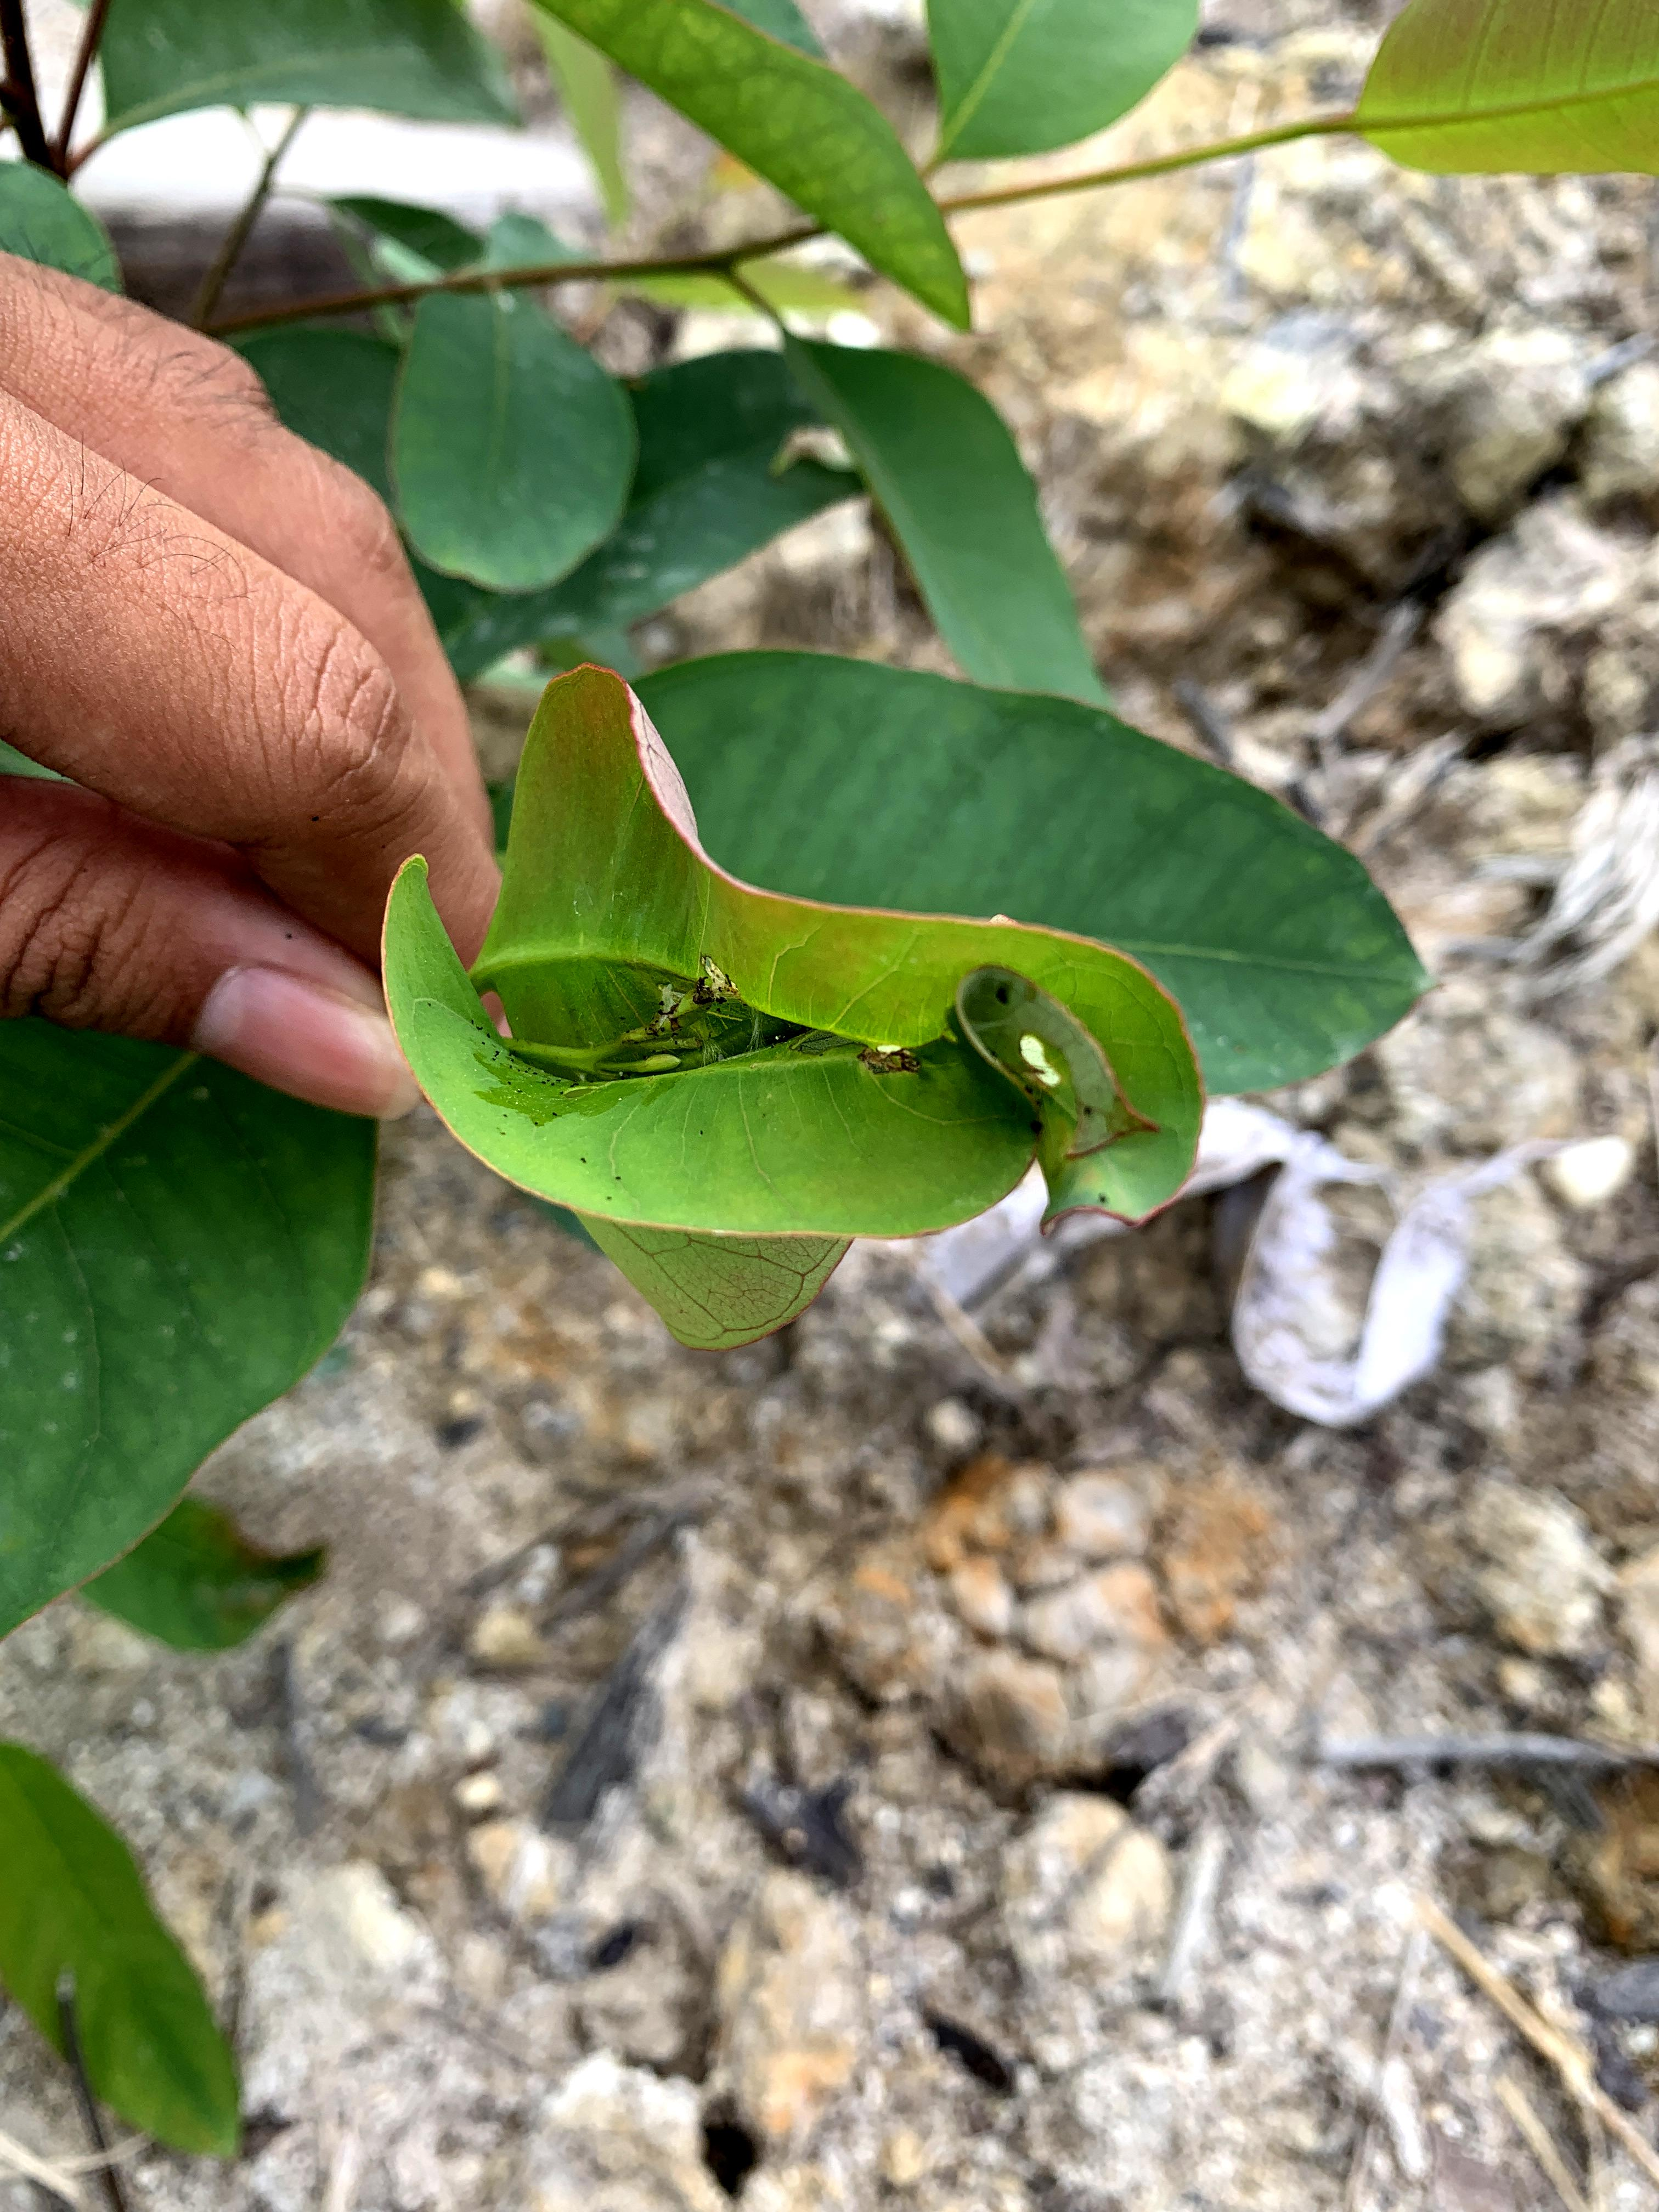Leaf Roller - Leaf: (293, 610, 1312, 1407)
